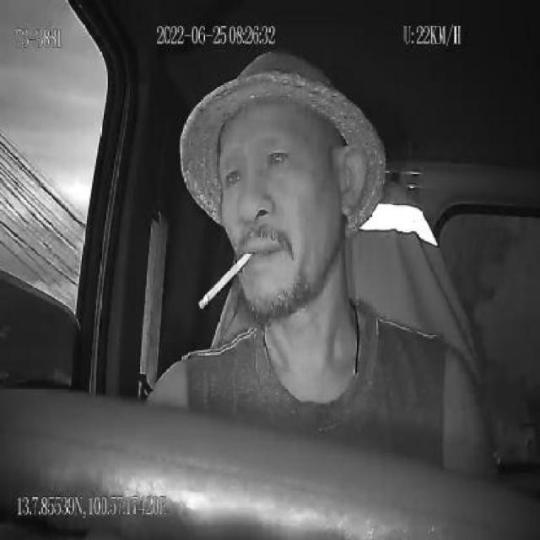smoking: (199, 250, 254, 308)
